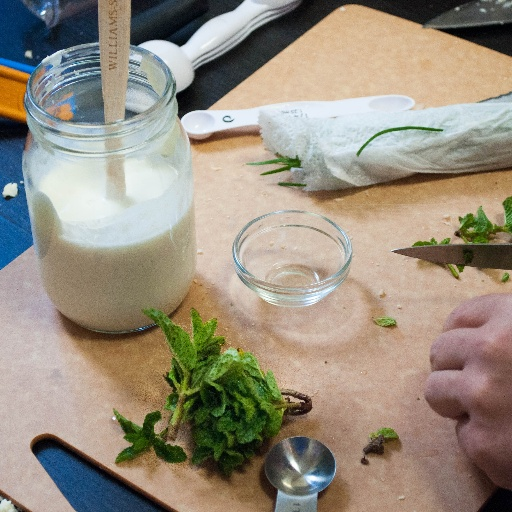hand: (390, 232, 507, 478)
